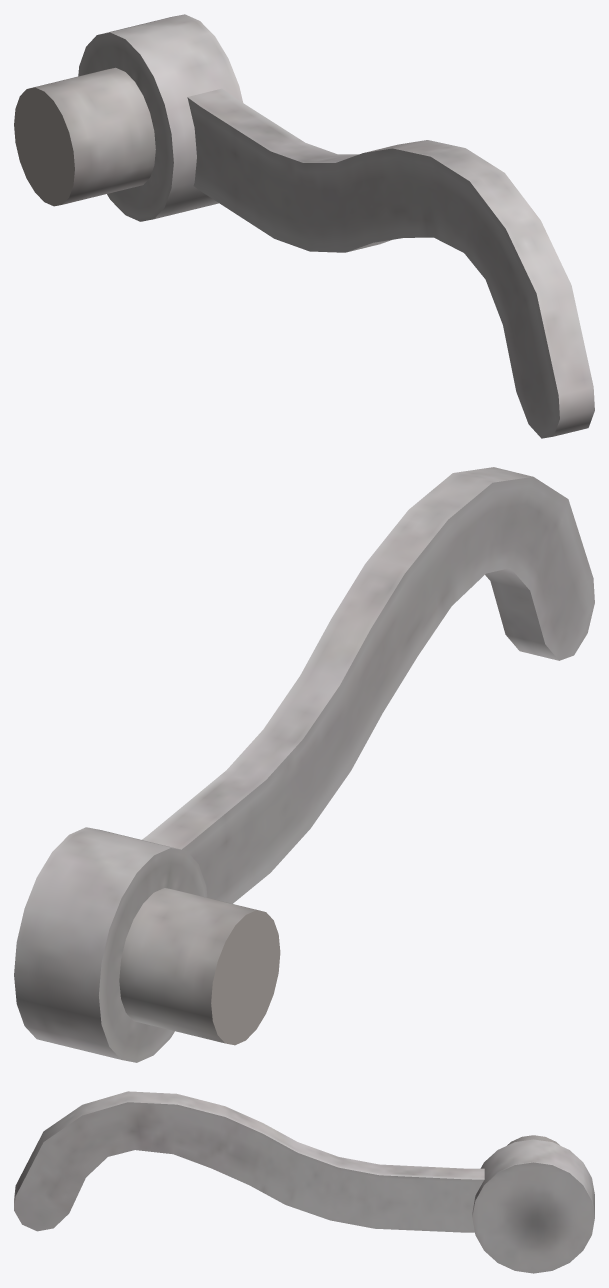
The model's file is kulp.fbx.
3 renders of one model, top to bottom at view 1: azimuth 30°, elevation 25°; view 2: azimuth 150°, elevation 25°; view 3: azimuth 270°, elevation 25°, orthographic. The views are drawn at different scales.
Visible parts, largest first — view 1: SM_Doorway_Door_LOD0.001; view 2: SM_Doorway_Door_LOD0.001; view 3: SM_Doorway_Door_LOD0.001.
Boxes of the visible parts, x1,y1,x2,y2 form: SM_Doorway_Door_LOD0.001: [14, 14, 594, 438]; SM_Doorway_Door_LOD0.001: [14, 467, 594, 1062]; SM_Doorway_Door_LOD0.001: [14, 1091, 594, 1273].
Size of the model in its own units: 2.33 by 3.77 by 11.93.
